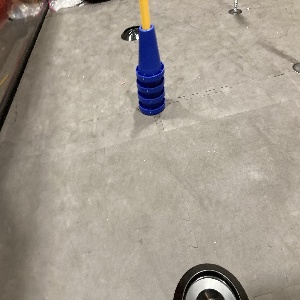Blue_4: (135, 25, 165, 115)
